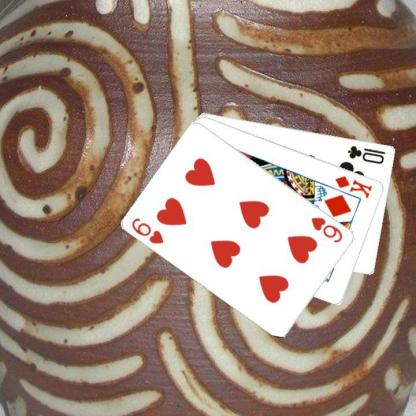10C: (345, 143, 387, 165)
6H: (129, 215, 165, 245), (309, 214, 344, 244)
KD: (332, 173, 374, 199)
